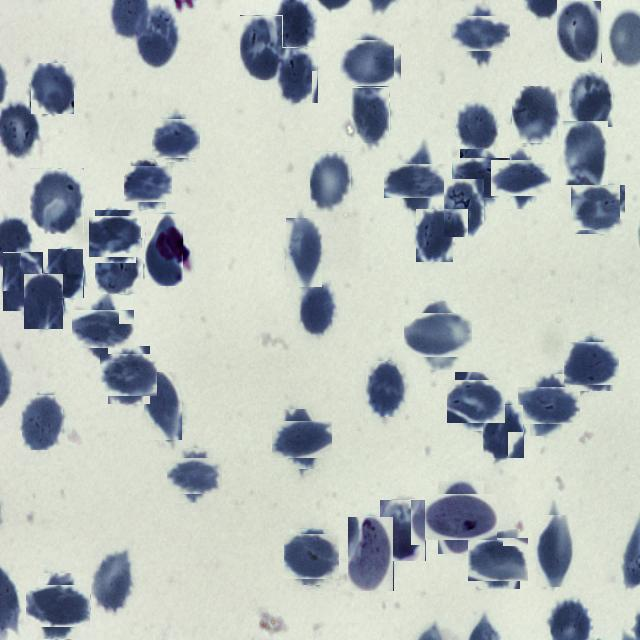red blood cell: (30, 168, 84, 234), (409, 307, 466, 363), (344, 36, 398, 90), (32, 580, 86, 634), (556, 0, 602, 63), (563, 121, 608, 185), (380, 499, 426, 561), (240, 15, 283, 80), (536, 514, 574, 587), (145, 214, 183, 286), (472, 533, 524, 585), (95, 238, 143, 294), (512, 86, 558, 143), (92, 551, 134, 613), (451, 376, 502, 427), (144, 372, 182, 440), (310, 151, 352, 212), (78, 304, 128, 355), (391, 156, 442, 206), (286, 532, 336, 582), (524, 380, 574, 430), (572, 182, 622, 232), (456, 153, 506, 203), (104, 350, 154, 400), (286, 218, 322, 287), (566, 339, 616, 388), (569, 72, 613, 127), (136, 9, 177, 68), (444, 178, 485, 237), (278, 414, 326, 464), (3, 252, 43, 311), (22, 394, 64, 450), (498, 154, 546, 203), (456, 10, 504, 58), (366, 361, 406, 417), (278, 47, 318, 103), (24, 273, 64, 329), (483, 404, 524, 458), (92, 213, 139, 260), (31, 63, 74, 114), (351, 87, 390, 143), (172, 452, 218, 498), (416, 208, 454, 262), (456, 102, 498, 150), (154, 116, 198, 160), (298, 286, 336, 336), (126, 163, 170, 206), (48, 248, 84, 298)
ring: (431, 488, 491, 548), (348, 516, 394, 591)
